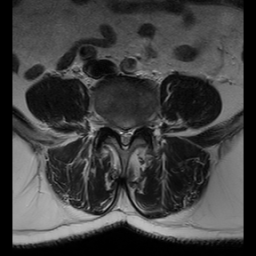CCS_normal: (121, 121, 128, 155)
LFS_severe_stenosis: (136, 116, 143, 136)
LLS_stenosis: (129, 121, 136, 144)
RFS_stenosis: (110, 115, 116, 136)
RLS_stenosis: (116, 120, 122, 144)
